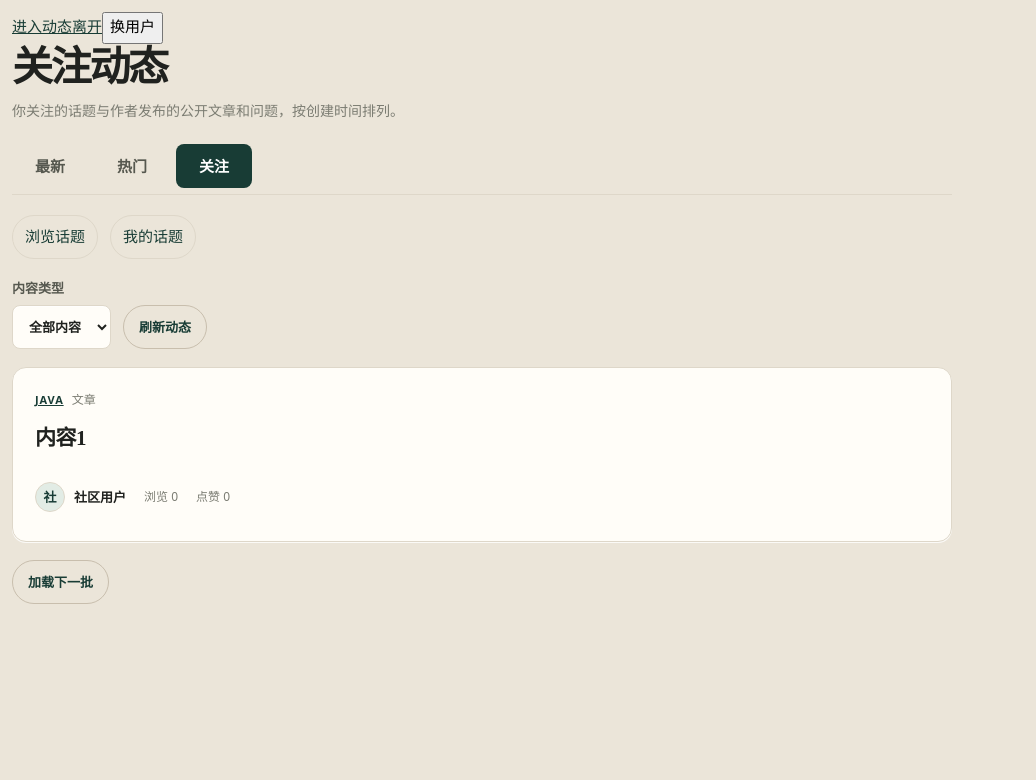
it: 关注动态 › refreshes from the first batch and ignores a late request from the discarded list
The image size is (1036, 780).
Click the button "加载下一批": {"x": 60, "y": 582} [12,560,109,604]
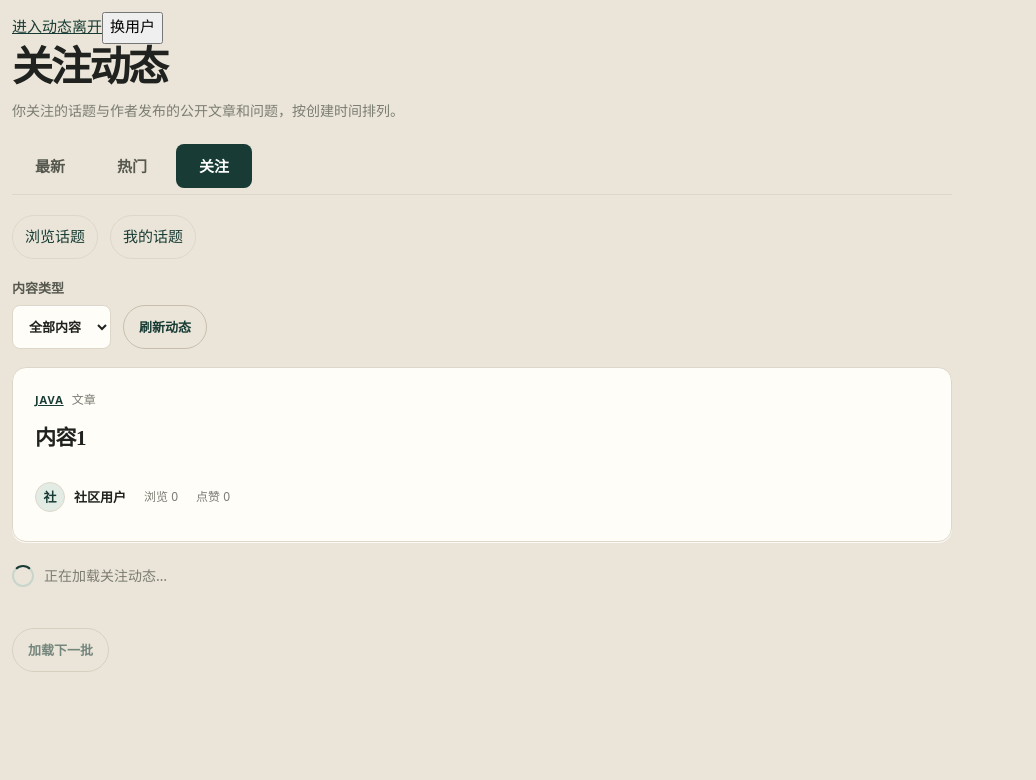
Click the button "刷新动态": {"x": 165, "y": 328} [123,306,207,350]
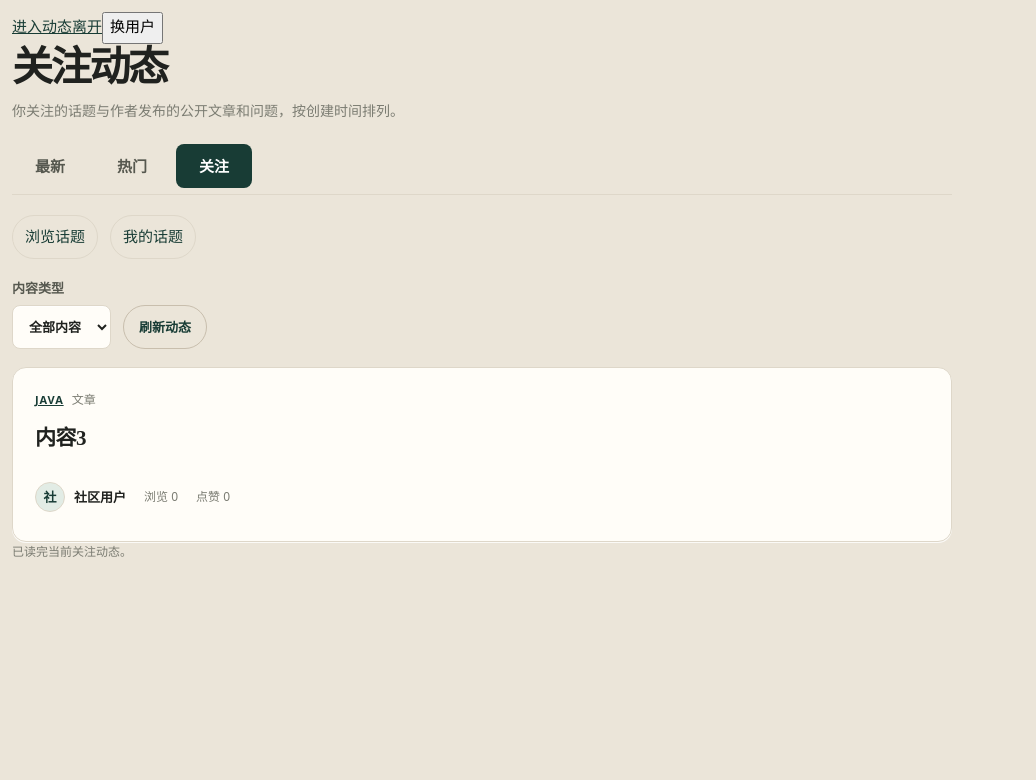
Expected: the link "内容3" is shown, [35,420,86,457]
Expected: the link "内容1" is gone
